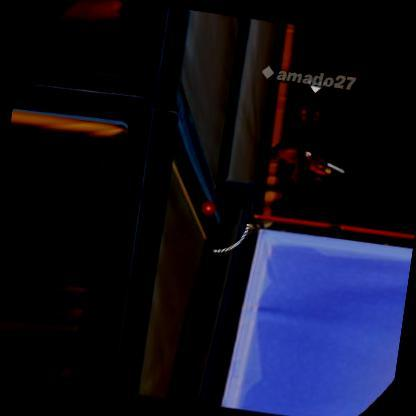person: (260, 102, 342, 224)
